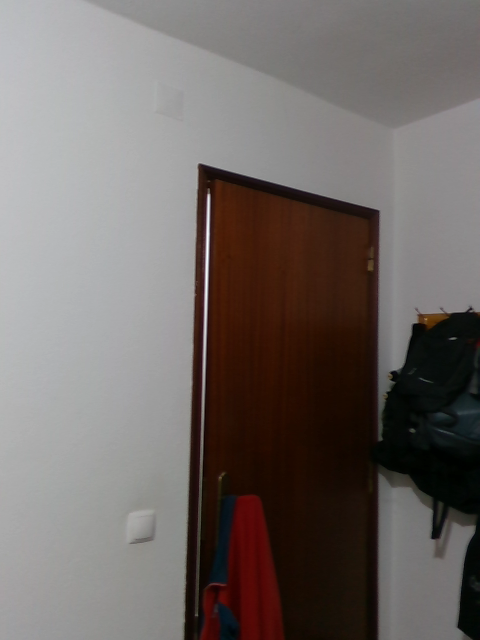closed: (184, 165, 382, 629)
